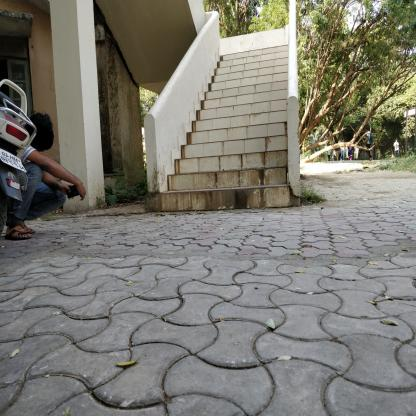stairs: (221, 44, 285, 220)
